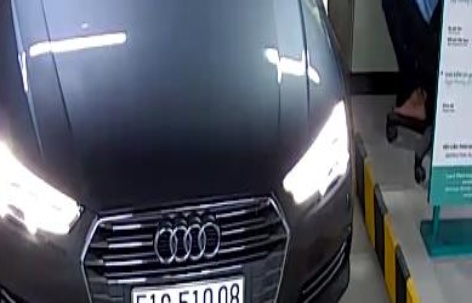plate: (133, 278, 248, 303)
